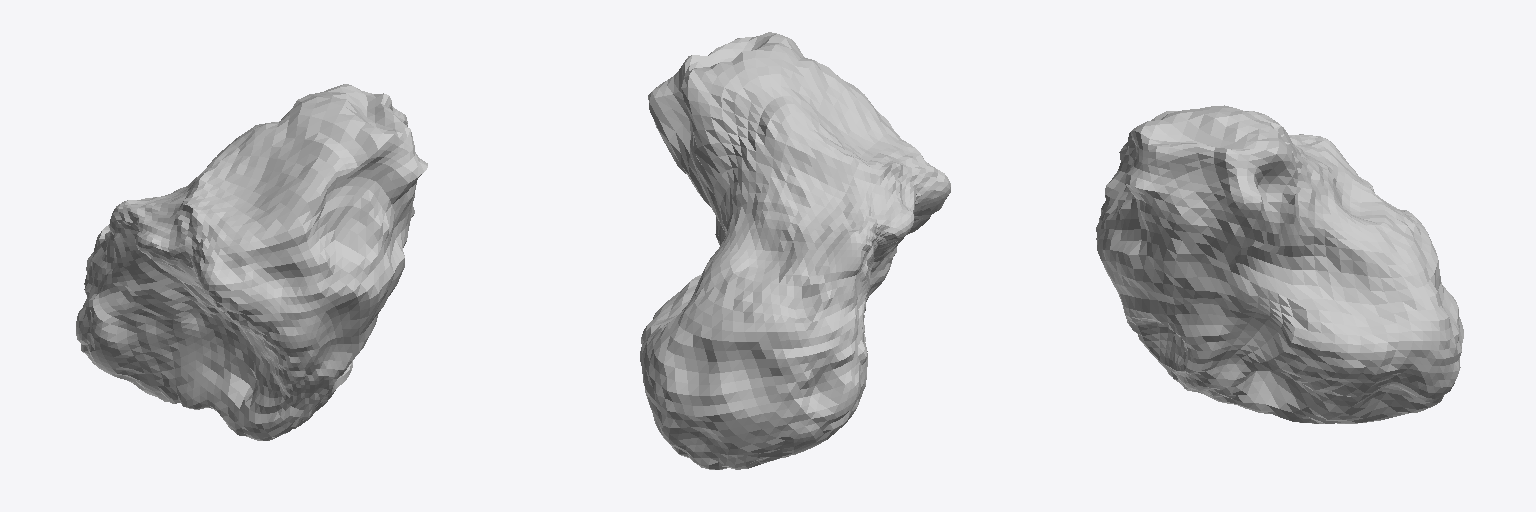
Rendered from elektra.obj.
3 views of the same model, side by side, from view 1: azimuth 30°, elevation 25°; view 2: azimuth 150°, elevation 25°; view 3: azimuth 270°, elevation 25° (orthographic).
Visible parts, largest first — view 1: Elektra; view 2: Elektra; view 3: Elektra.
Boxes of the visible parts, <box> form: Elektra: <box>76,84,427,440</box>; Elektra: <box>640,32,950,469</box>; Elektra: <box>1096,105,1463,423</box>.
Size of the model in its own units: 2.98 by 3.55 by 3.56.